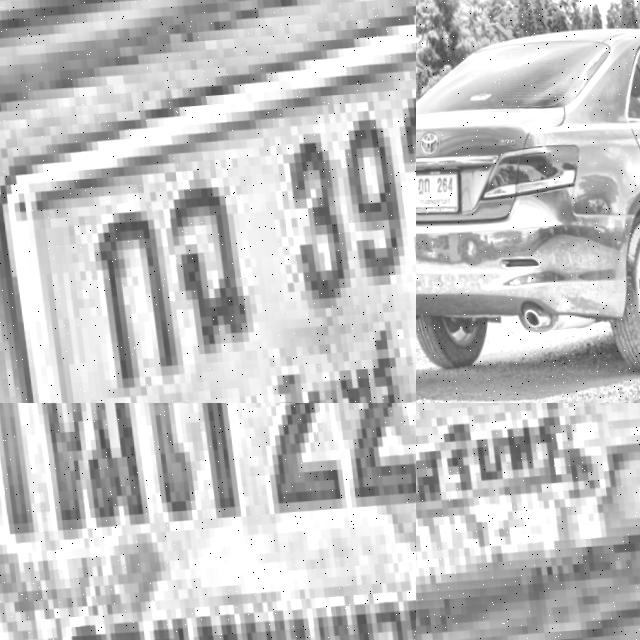license-plate: (0, 0, 416, 403), (0, 403, 416, 640), (416, 403, 640, 640), (416, 159, 469, 226)
